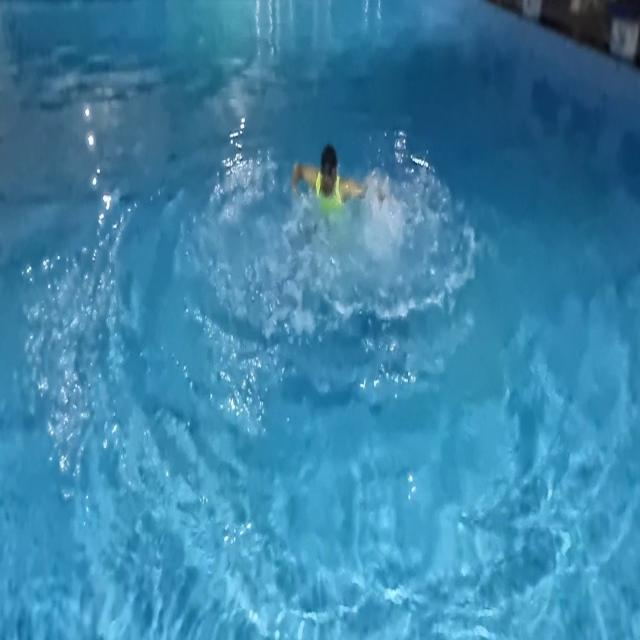Swimming: (273, 124, 390, 228)
